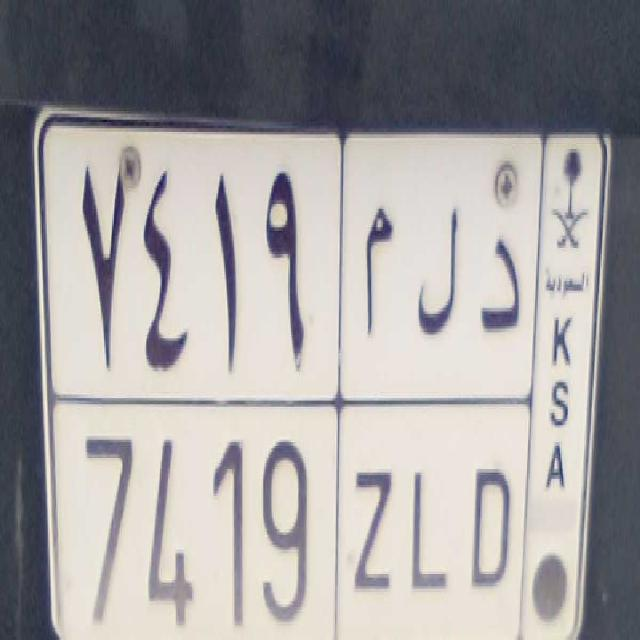license_plate: (62, 397, 521, 640)
